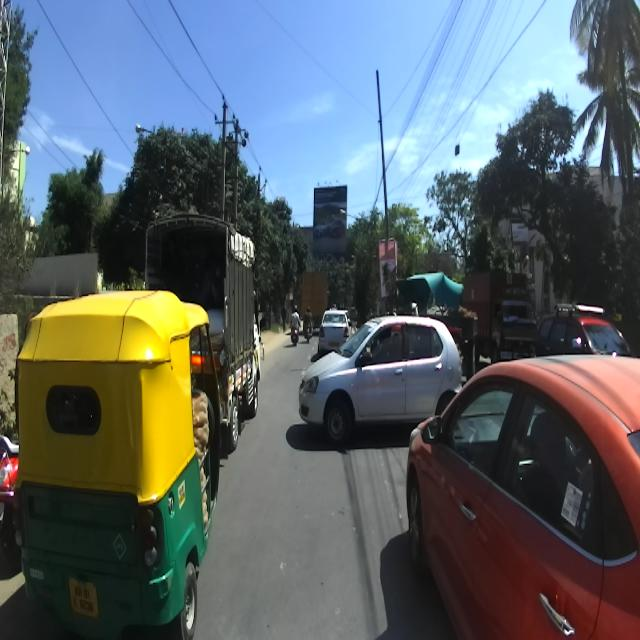auto ahead at: (12, 288, 222, 640)
car ahead at: (396, 345, 640, 640), (298, 306, 467, 452)
